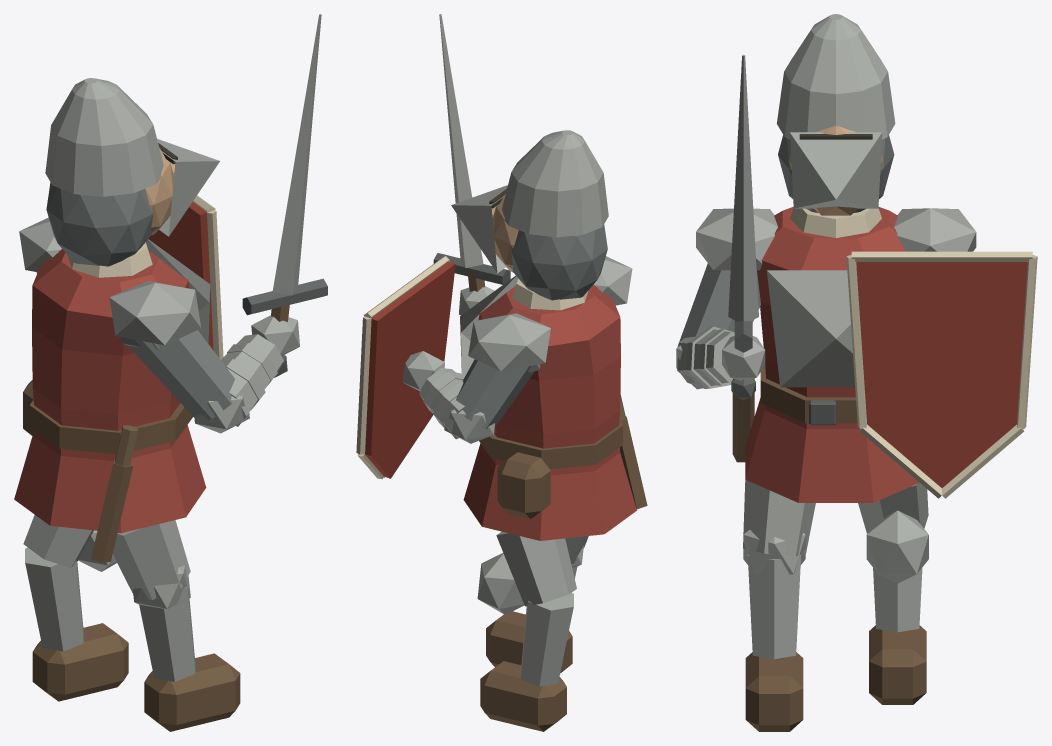
The model's file is infantry_dismounted.glb.
The picture shows the model from 3 angles, left to right: view 1: azimuth 30°, elevation 25°; view 2: azimuth 150°, elevation 25°; view 3: azimuth 270°, elevation 25°; orthographic projection. The views are drawn at different scales.
Visible parts, largest first — view 1: infantry_dismounted_steel, infantry_dismounted_team_cloth, infantry_dismounted_leather, infantry_dismounted_mail, infantry_dismounted_linen, infantry_dismounted_team_paint, infantry_dismounted_iron, infantry_dismounted_skin, infantry_dismounted_oak_dark; view 2: infantry_dismounted_steel, infantry_dismounted_team_cloth, infantry_dismounted_leather, infantry_dismounted_team_paint, infantry_dismounted_mail, infantry_dismounted_linen, infantry_dismounted_skin, infantry_dismounted_iron; view 3: infantry_dismounted_steel, infantry_dismounted_team_paint, infantry_dismounted_team_cloth, infantry_dismounted_leather, infantry_dismounted_linen, infantry_dismounted_mail, infantry_dismounted_iron, infantry_dismounted_skin.
Boxes of the visible parts, box(x1,y1,x2,y2) form: infantry_dismounted_steel: box(19, 14, 321, 681); infantry_dismounted_team_cloth: box(14, 249, 206, 533); infantry_dismounted_leather: box(23, 304, 289, 731); infantry_dismounted_mail: box(36, 182, 235, 420); infantry_dismounted_linen: box(68, 195, 223, 359); infantry_dismounted_team_paint: box(148, 202, 213, 350); infantry_dismounted_iron: box(242, 278, 327, 377); infantry_dismounted_skin: box(145, 148, 175, 235); infantry_dismounted_oak_dark: box(115, 425, 137, 466); infantry_dismounted_steel: box(402, 14, 632, 686); infantry_dismounted_team_cloth: box(463, 284, 636, 540); infantry_dismounted_leather: box(467, 269, 647, 731); infantry_dismounted_team_paint: box(365, 261, 455, 478); infantry_dismounted_mail: box(456, 224, 607, 429); infantry_dismounted_linen: box(356, 256, 588, 479); infantry_dismounted_skin: box(491, 193, 518, 272); infantry_dismounted_iron: box(433, 253, 510, 284); infantry_dismounted_steel: box(676, 14, 976, 659); infantry_dismounted_team_paint: box(856, 262, 1027, 487); infantry_dismounted_team_cloth: box(745, 206, 919, 502); infantry_dismounted_leather: box(732, 365, 926, 731); infantry_dismounted_linen: box(790, 208, 1037, 498); infantry_dismounted_mail: box(677, 135, 894, 346); infantry_dismounted_iron: box(731, 320, 835, 425); infantry_dismounted_skin: box(789, 126, 882, 215).
Bounding box in the file's own units: 0.7748 × 2.06 × 0.9382.
